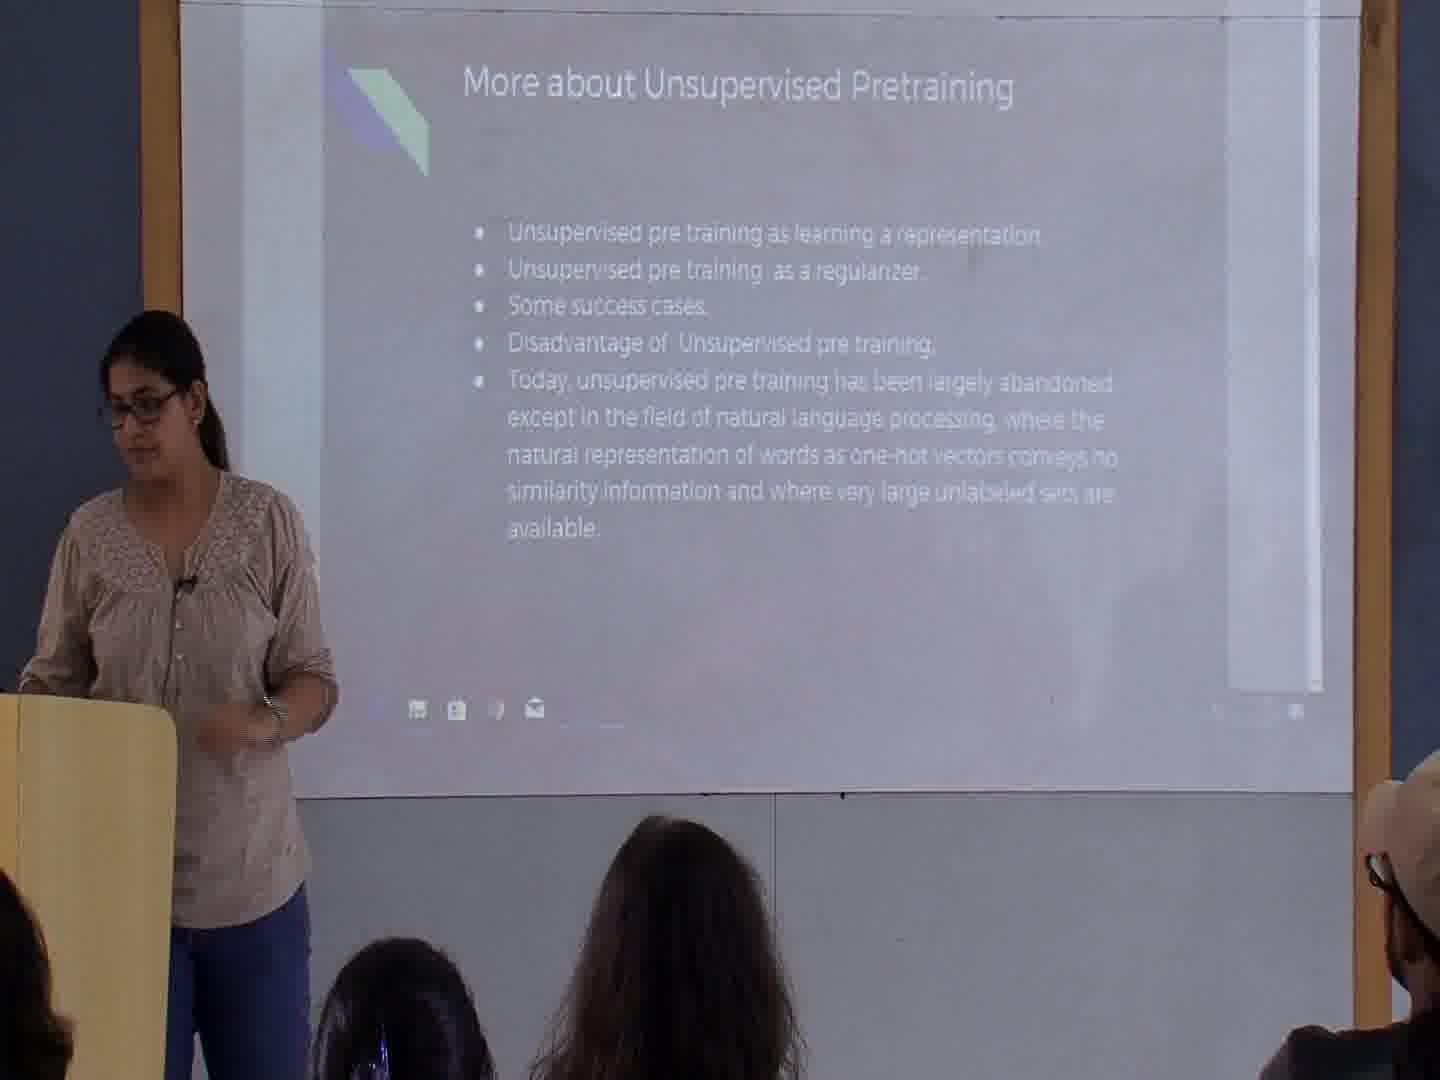slide: (244, 1, 1320, 733)
